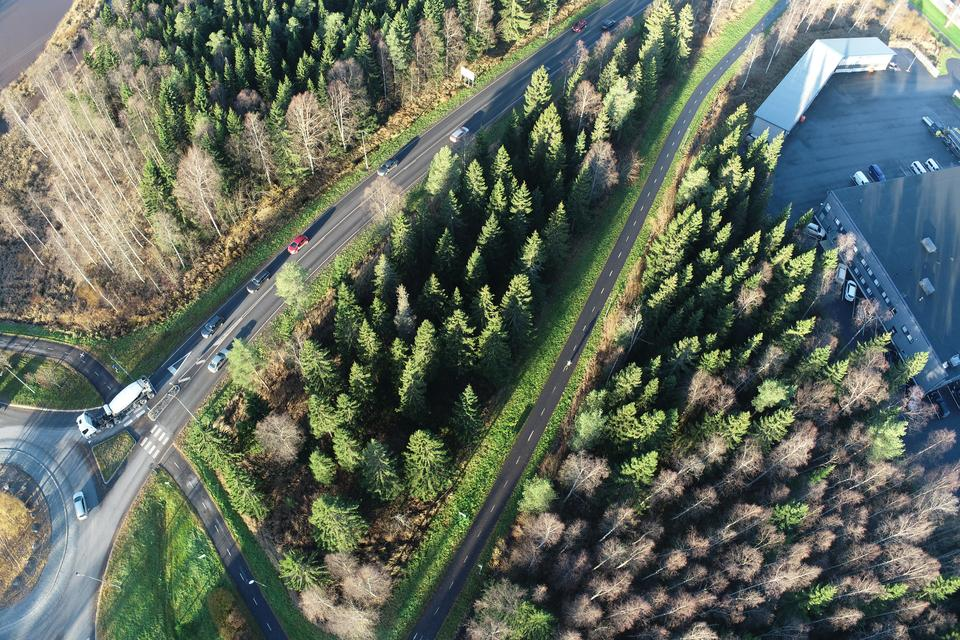intersection: (114, 356, 199, 505)
roundabout: (0, 385, 109, 640)
